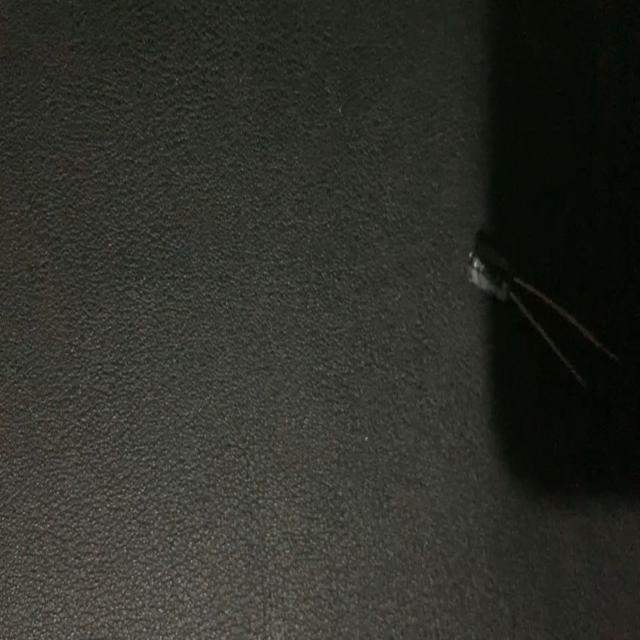capacitor: (463, 238, 617, 384)
